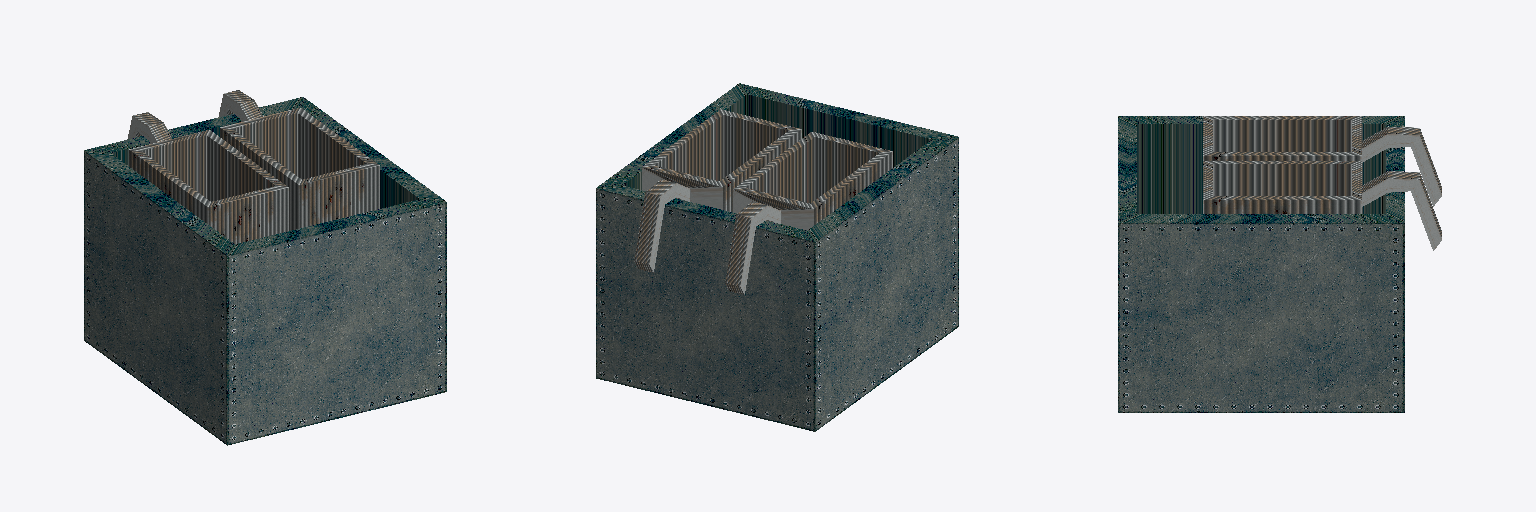
3 renders of one model, left to right at view 1: azimuth 30°, elevation 25°; view 2: azimuth 150°, elevation 25°; view 3: azimuth 270°, elevation 25°, orthographic.
Visible parts, largest first — view 1: Box001, Box003, Box002; view 2: Box001, Box002, Box003; view 3: Box001, Box003, Box002.
Boxes of the visible parts, x1=… form: Box001: x1=84, y1=97, x2=446, y2=445; Box003: x1=219, y1=90, x2=379, y2=230; Box002: x1=127, y1=112, x2=288, y2=243; Box001: x1=596, y1=83, x2=958, y2=431; Box002: x1=725, y1=132, x2=892, y2=294; Box003: x1=634, y1=109, x2=801, y2=272; Box001: x1=1118, y1=116, x2=1404, y2=412; Box003: x1=1203, y1=161, x2=1441, y2=250; Box002: x1=1203, y1=116, x2=1441, y2=206.
Bounding box in the file's own units: 68.56 × 61.71 × 87.83.
2 materials, 2 textured.